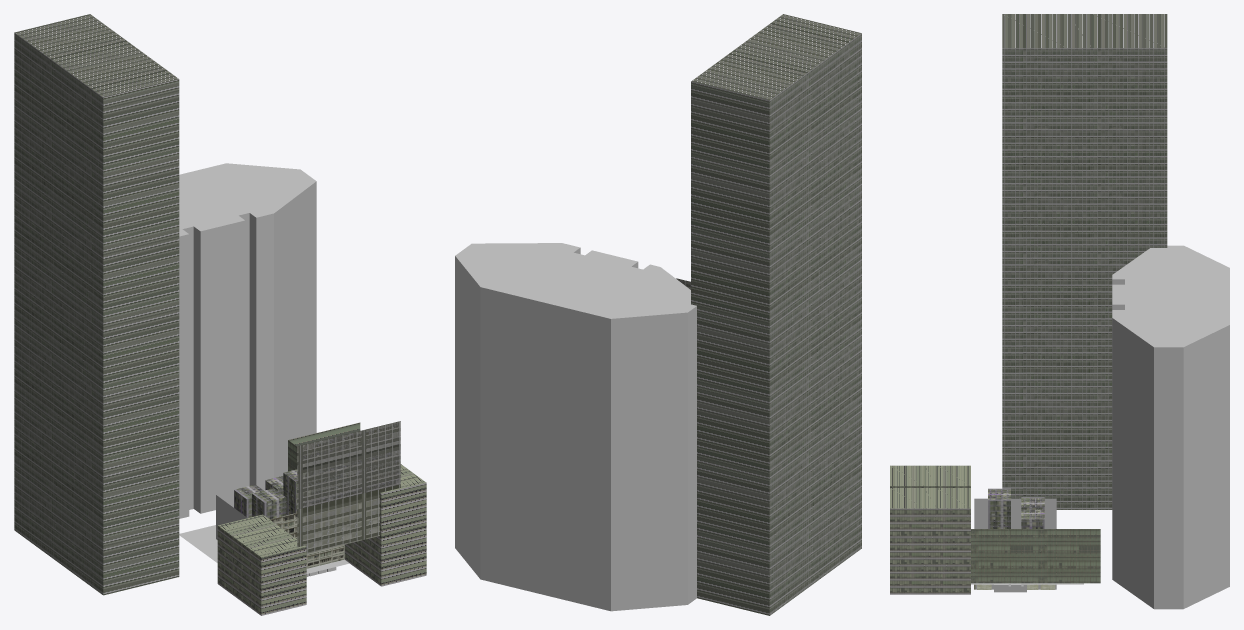
Rendered from SM_LDFest_14.fbx.
The picture shows the model from 3 angles, left to right: view 1: azimuth 30°, elevation 25°; view 2: azimuth 150°, elevation 25°; view 3: azimuth 270°, elevation 25°; orthographic projection. The views are drawn at different scales.
Visible parts, largest first — view 1: SM_LDFest_14, SM_LDFest_14.001; view 2: SM_LDFest_14; view 3: SM_LDFest_14, SM_LDFest_14.001.
Boxes of the visible parts, left/top/right/bottom form: SM_LDFest_14: left=14, top=14, right=426, bottom=615; SM_LDFest_14.001: left=216, top=483, right=265, bottom=539; SM_LDFest_14: left=455, top=14, right=861, bottom=615; SM_LDFest_14: left=890, top=14, right=1229, bottom=609; SM_LDFest_14.001: left=974, top=498, right=1056, bottom=528.
Size of the model in its own units: 20921 by 33222 by 21408.
